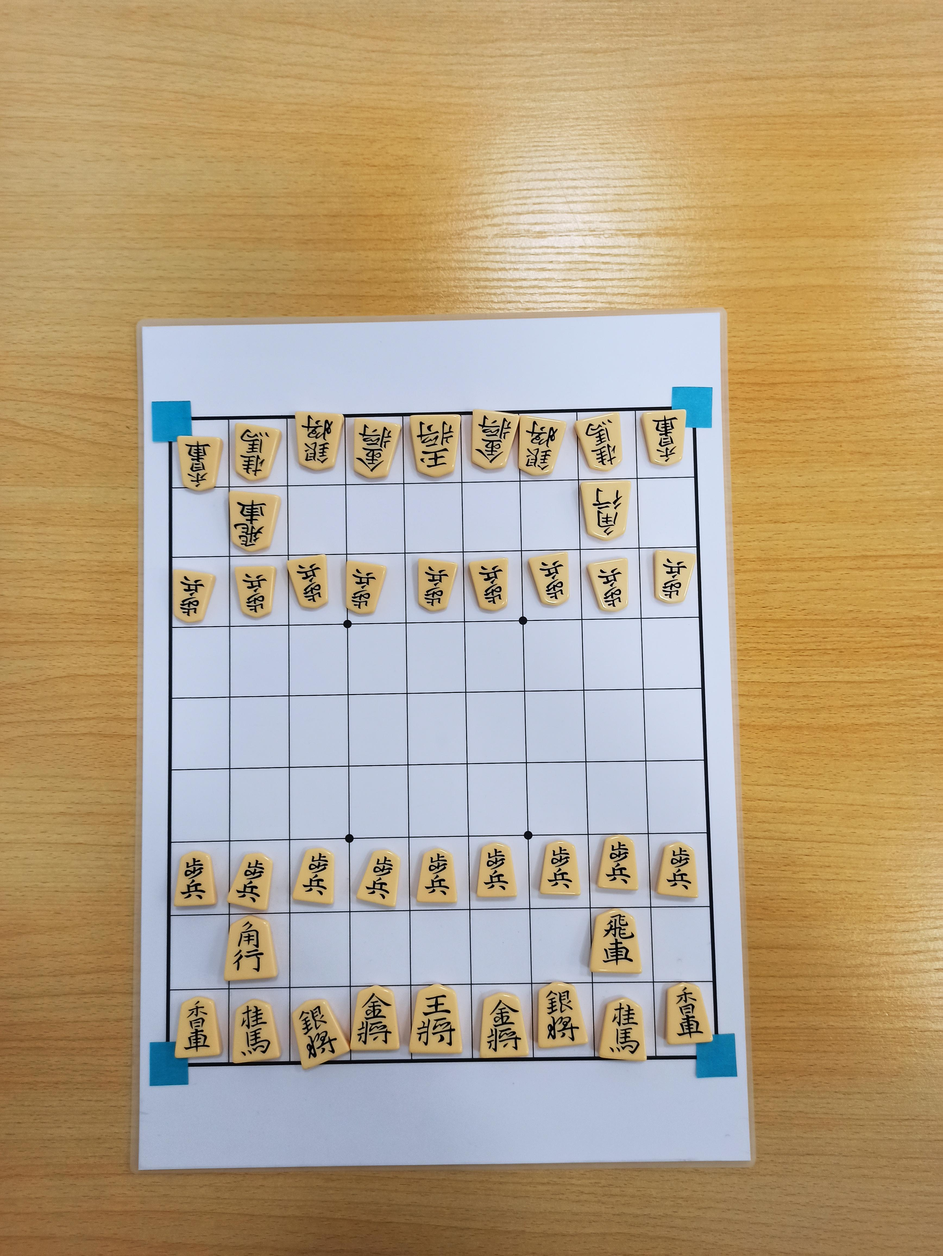board: (168, 409, 717, 1067)
